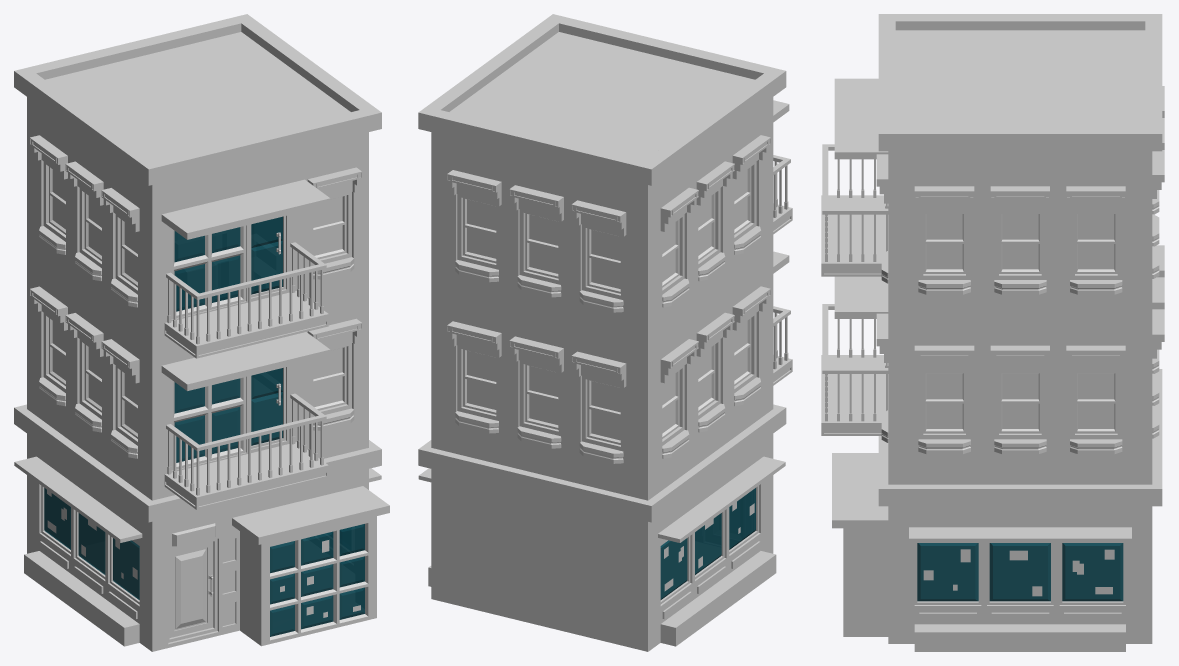
The model's file is shop_06_large.fbx.
3 renders of one model, left to right at view 1: azimuth 30°, elevation 25°; view 2: azimuth 150°, elevation 25°; view 3: azimuth 270°, elevation 25°, orthographic. The views are drawn at different scales.
Visible parts, largest first — view 1: shop_06_large, shop_06_large_glass; view 2: shop_06_large, shop_06_large_glass; view 3: shop_06_large, shop_06_large_glass.
Boxes of the visible parts, x1=… form: shop_06_large: x1=14, y1=14, x2=389, y2=651; shop_06_large_glass: x1=44, y1=216, x2=364, y2=636; shop_06_large: x1=418, y1=14, x2=792, y2=651; shop_06_large_glass: x1=660, y1=488, x2=755, y2=599; shop_06_large: x1=821, y1=14, x2=1164, y2=651; shop_06_large_glass: x1=917, y1=543, x2=1123, y2=601.
Bounding box in the file's own units: 723 × 1290 × 780.
